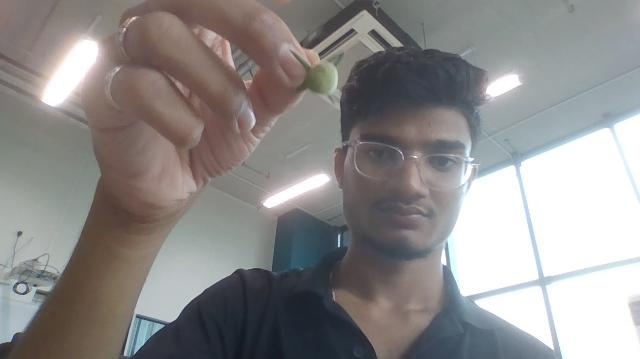Fruit Maturation: (305, 62, 337, 96)
